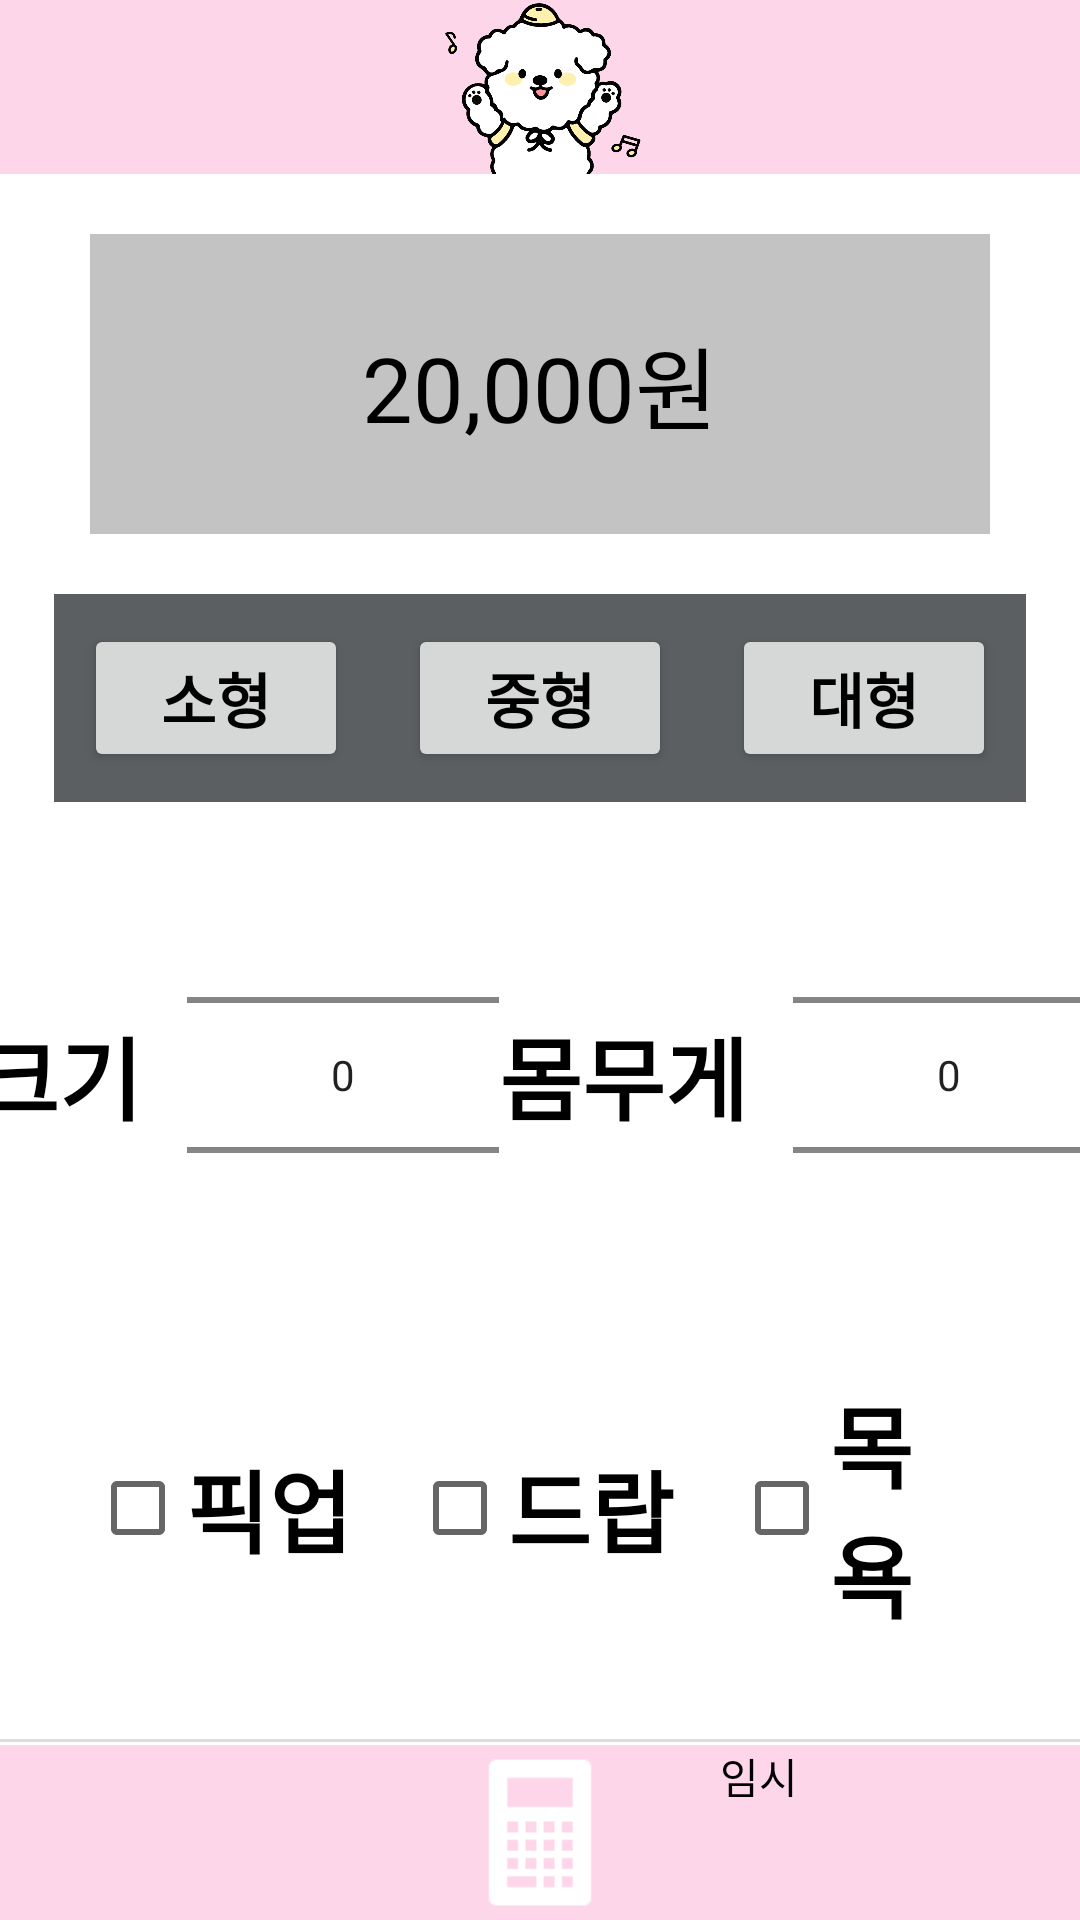

Icons on this 1080×1920 Android screen, each with its box as (x1, y1, x2, y2):
calculator: (489, 1760, 591, 1905)
